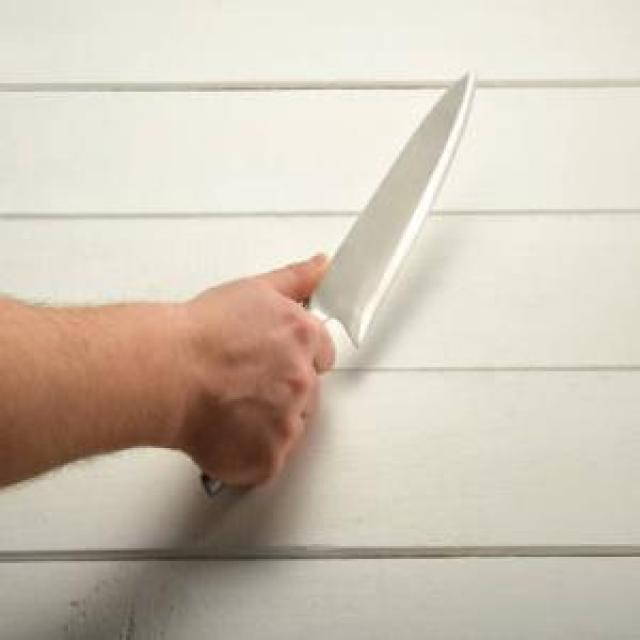knife: (200, 68, 479, 500)
